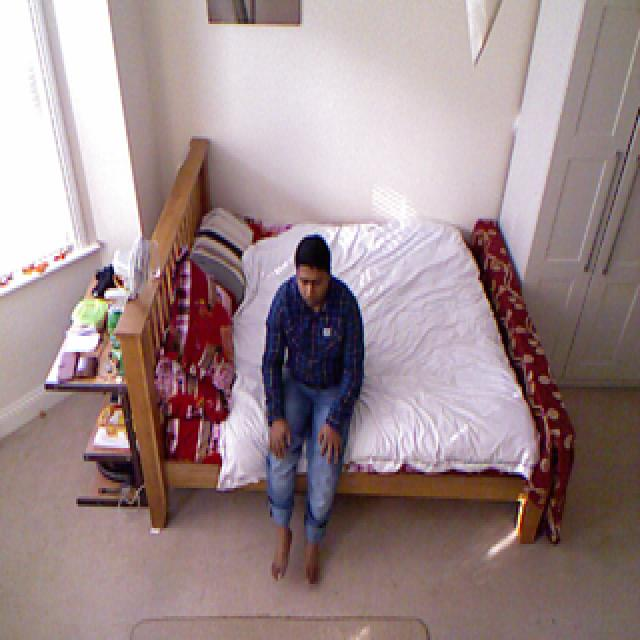sitting: (262, 230, 366, 576)
